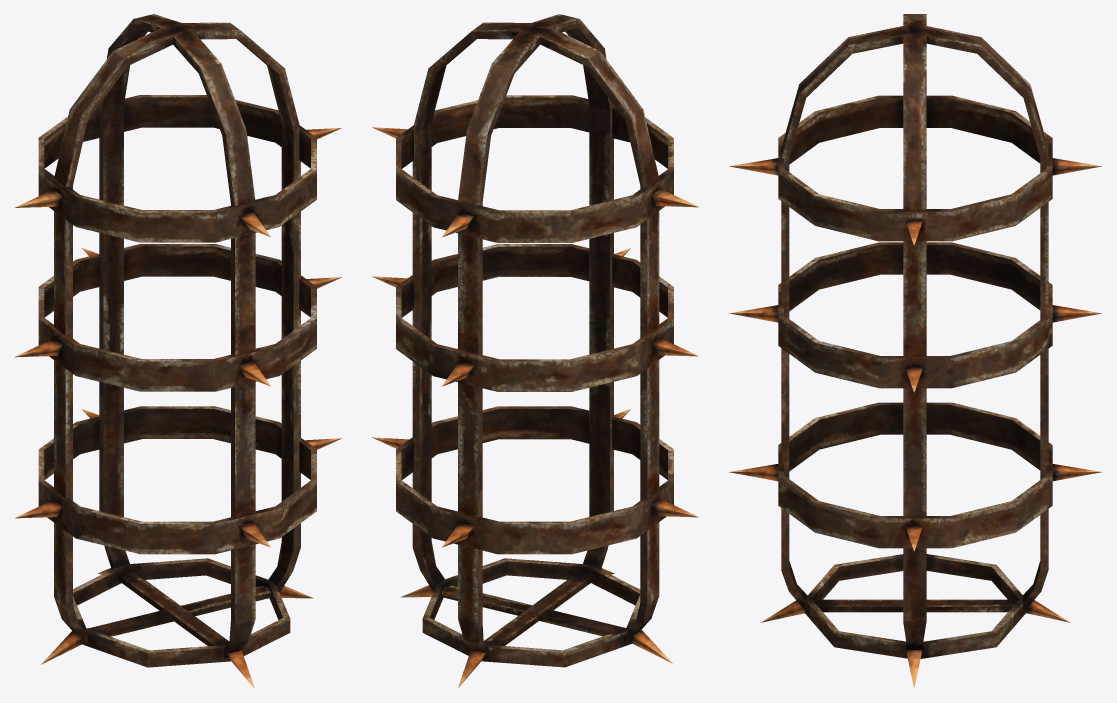
File: prisoner_cage.dae
The picture shows the model from 3 angles, left to right: view 1: azimuth 30°, elevation 25°; view 2: azimuth 150°, elevation 25°; view 3: azimuth 270°, elevation 25°; orthographic projection.
Parts seen in each view (by area): view 1: Tube05; view 2: Tube05; view 3: Tube05.
Boxes of the visible parts, <box> form: Tube05: <box>14,14,342,688</box>; Tube05: <box>372,14,698,687</box>; Tube05: <box>729,14,1101,688</box>.
Size of the model in its own units: 0.9994 by 1 by 1.75.
